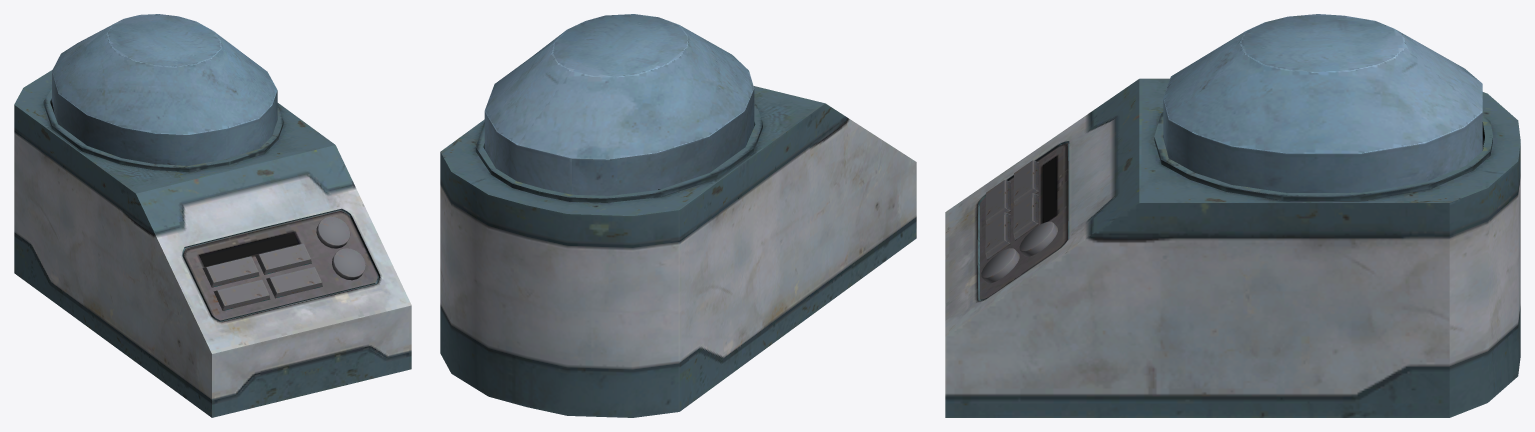
Rendered from centrifuge.DAE.
3 renders of one model, left to right at view 1: azimuth 30°, elevation 25°; view 2: azimuth 150°, elevation 25°; view 3: azimuth 270°, elevation 25°, orthographic. The views are drawn at different scales.
Parts seen in each view (by area): view 1: centrifuge, cap; view 2: centrifuge, cap; view 3: centrifuge, cap.
Boxes of the visible parts, box(x1,y1,x2,y2) form: centrifuge: box(14, 70, 411, 417); cap: box(52, 14, 277, 165); centrifuge: box(440, 86, 916, 417); cap: box(484, 14, 754, 195); centrifuge: box(945, 78, 1520, 417); cap: box(1163, 14, 1482, 192).
Size of the model in its own units: 0.2527 by 0.2962 by 0.4943.
